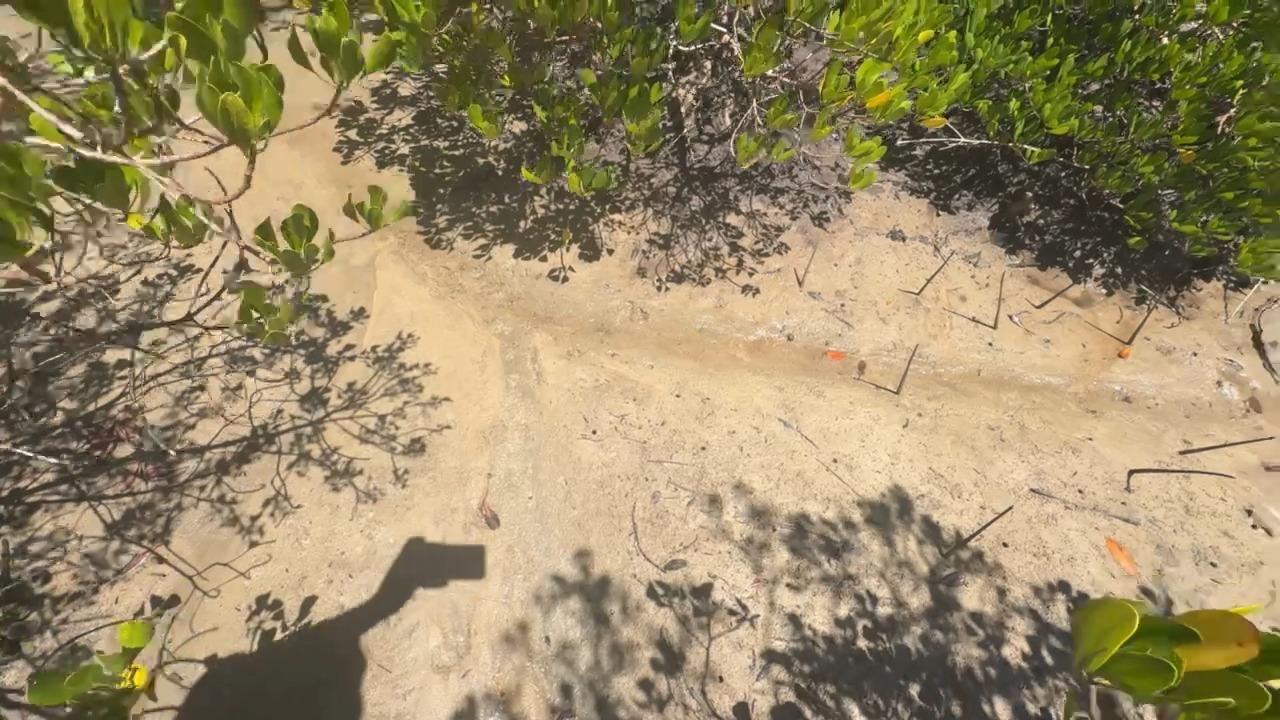Tree: (942, 506, 1013, 560), (1035, 259, 1103, 309), (1127, 283, 1172, 346), (1226, 277, 1266, 323), (916, 250, 956, 295), (1179, 436, 1277, 454), (1128, 468, 1234, 480), (895, 344, 919, 395), (799, 244, 818, 288), (993, 270, 1006, 330)
